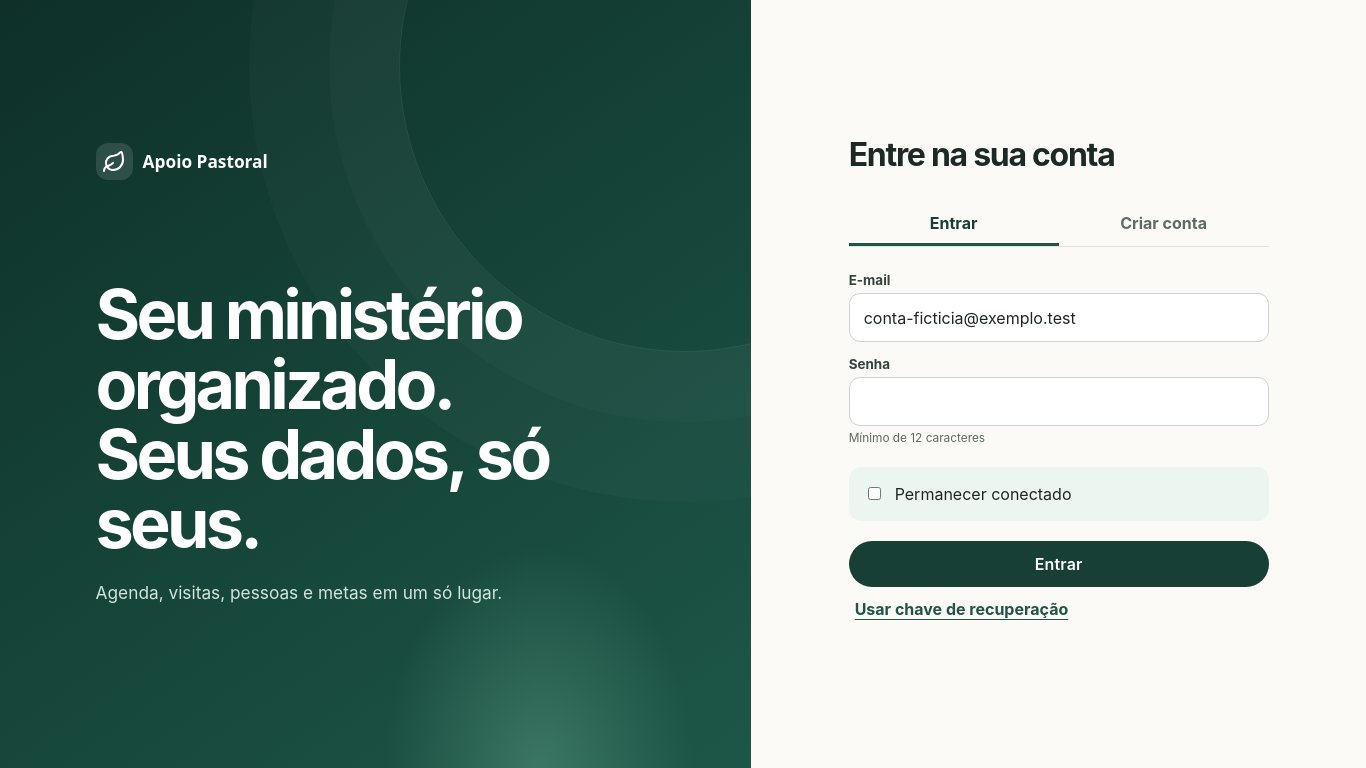
Scenario: tela de acesso › oferece recuperação de acesso somente quando já existe uma conta
Click the button "Usar chave de recuperação" at (961,609), box [849, 587, 1074, 631]
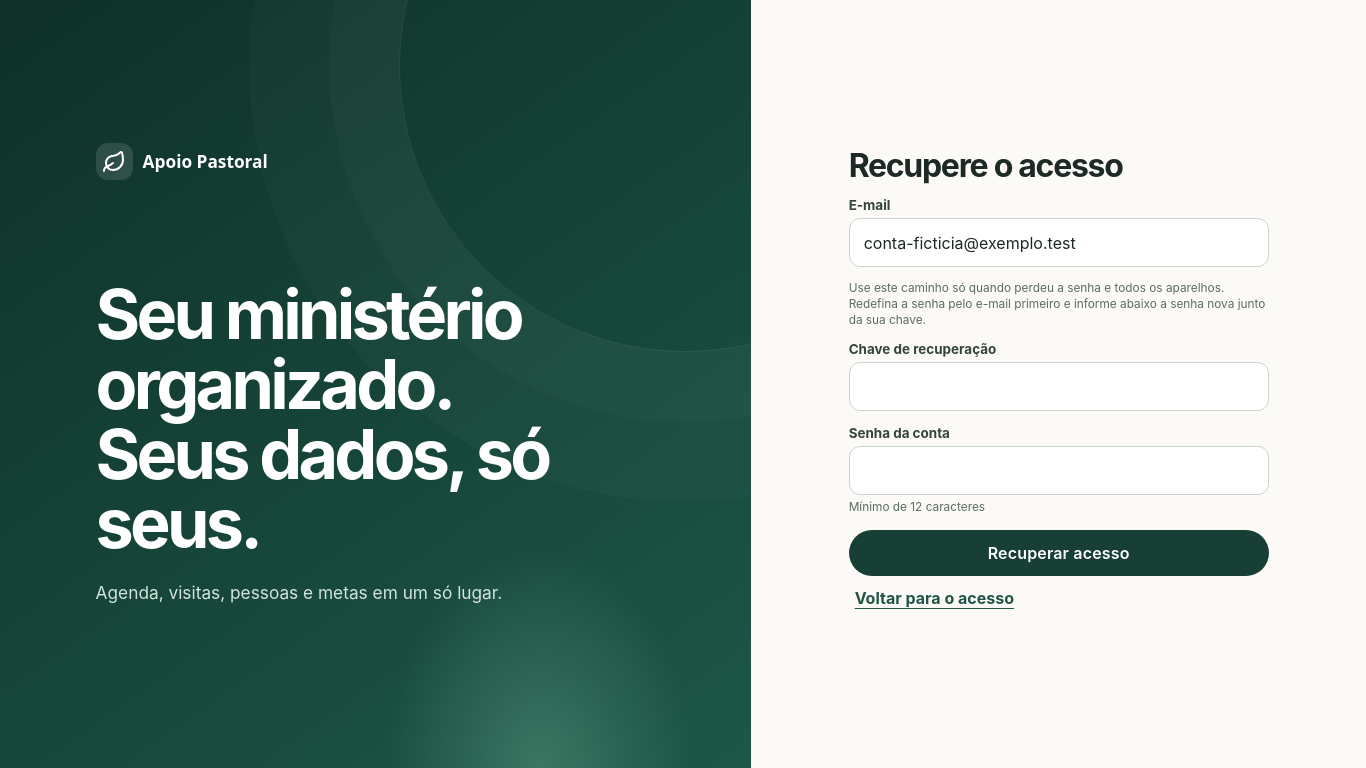
Check: the heading "Recupere o acesso" is shown, box [849, 146, 1123, 185]
Check: the button "Recuperar acesso" is shown, box [849, 530, 1269, 576]
